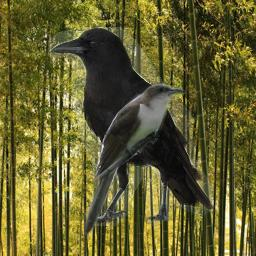Crow: (48, 27, 215, 226)
Cuckoo: (79, 81, 186, 240)
